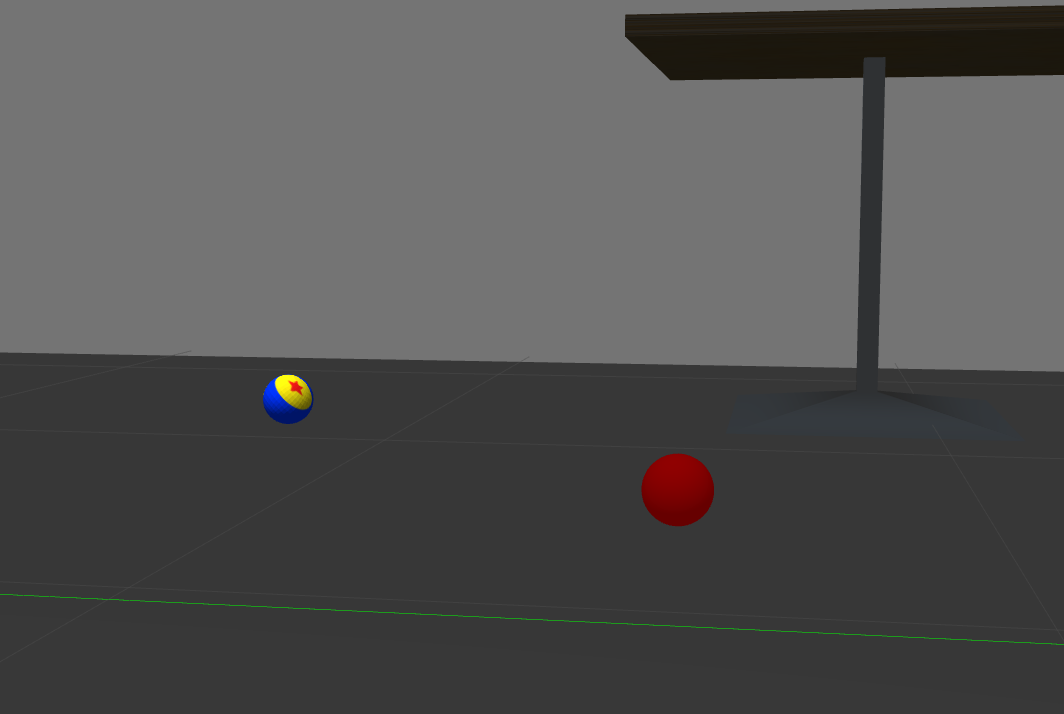toy_story_ball: (261, 375, 315, 424)
